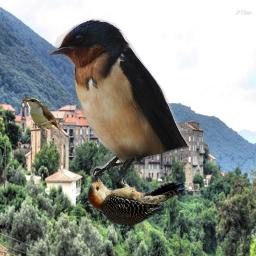Cuckoo: (21, 95, 65, 131)
Swallow: (48, 18, 191, 182)
Woodpecker: (79, 164, 191, 227)
